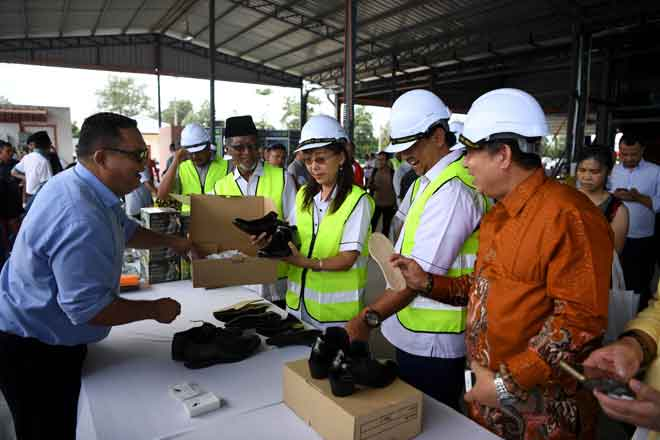No Safety Helmet: (74, 110, 147, 201), (222, 114, 264, 173), (578, 145, 611, 193), (618, 130, 646, 170), (266, 143, 285, 169)
Safety Helmet: (458, 82, 546, 196), (382, 86, 455, 175), (296, 114, 355, 193), (178, 121, 212, 164)
